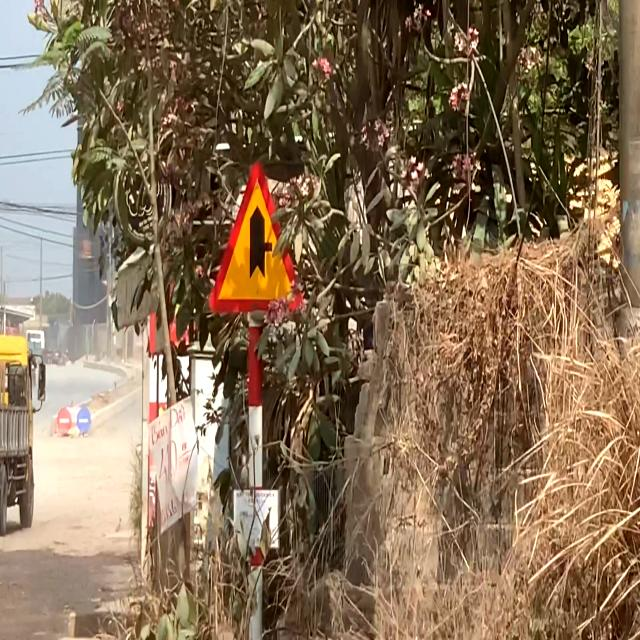P.102: (56, 407, 72, 435)
W.207b: (208, 160, 306, 315)
